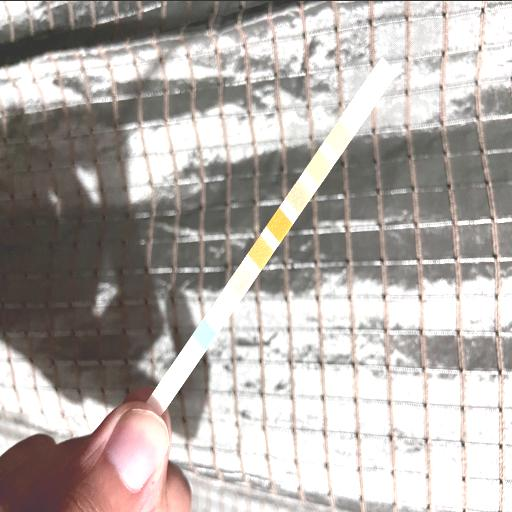Bilirubin: (218, 298, 230, 316)
Blood: (272, 216, 286, 233)
Glucose: (198, 326, 210, 342)
Ketone: (236, 271, 248, 289)
Leukocytes: (375, 66, 389, 86)
Nitrite: (352, 98, 368, 116)
Protein: (312, 158, 326, 176)
SpGravity: (254, 244, 268, 262)
Urobilinogen: (332, 128, 346, 146)
pH: (292, 188, 306, 204)
strip: (146, 57, 396, 415)
